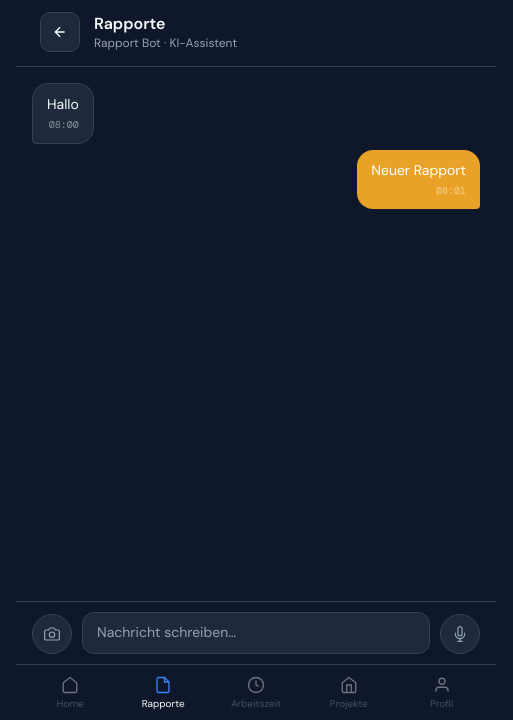
ChatScreen — Projekt bei jedem Turn › hält die id im Entwurf, wenn der Monteur im Gespräch das Projekt wechselt
The image size is (513, 720).
Type "Nein, das war Storen Peter, Chur" into the text box at (256, 633), box [82,612,430,654]
Then press Enter
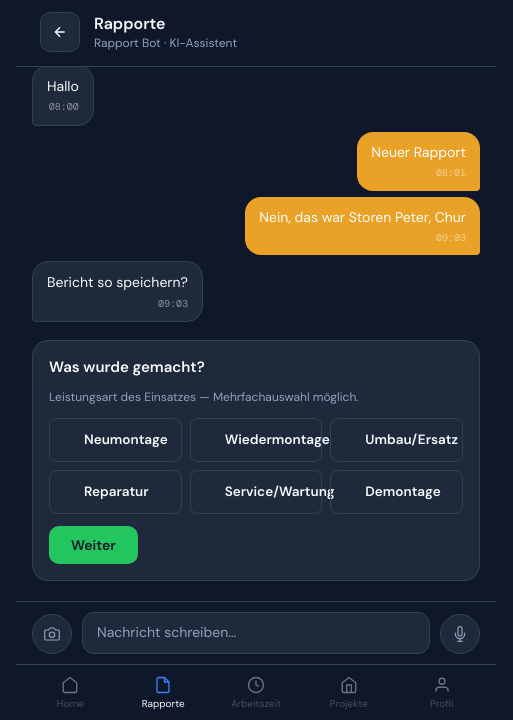
Result: the text "Bericht so speichern?" is shown at [47,272,188,293]
